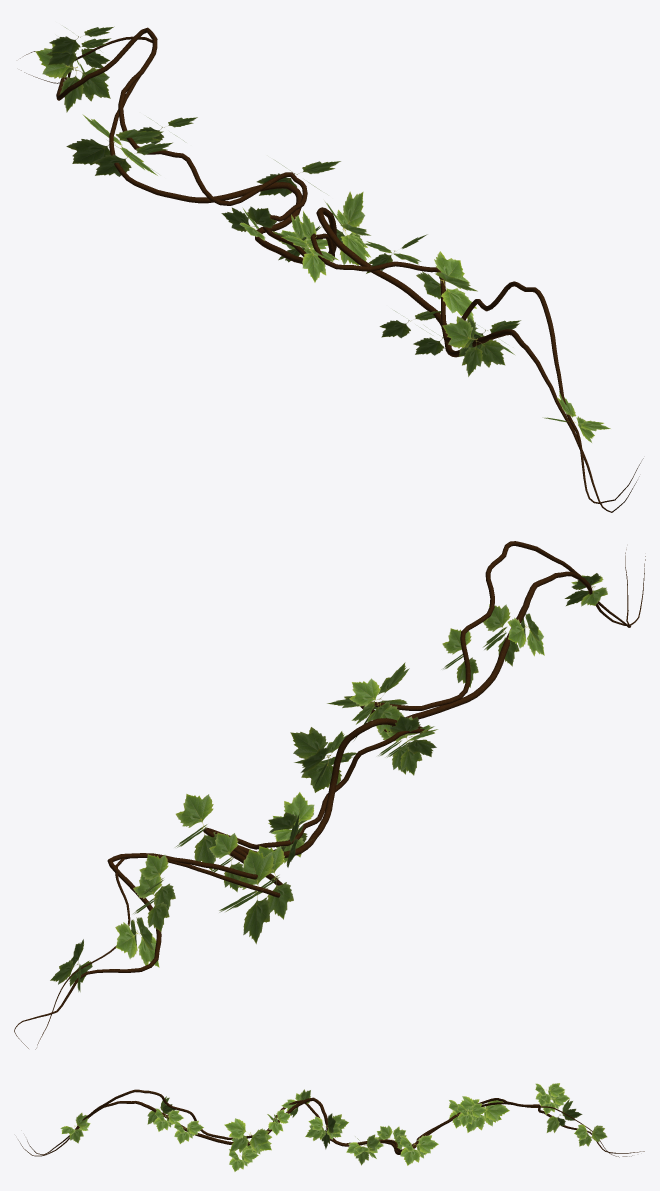
File: AR-Vines.glb
3 renders of one model, top to bottom at view 1: azimuth 30°, elevation 25°; view 2: azimuth 150°, elevation 25°; view 3: azimuth 270°, elevation 25°, orthographic. The views are drawn at different scales.
Visible parts, largest first — view 1: Climbing Vine Geometry Node.001; view 2: Climbing Vine Geometry Node.001; view 3: Climbing Vine Geometry Node.001.
Part boxes in pixels (left/top/right/bottom): Climbing Vine Geometry Node.001: left=20, top=26, right=643, bottom=512; Climbing Vine Geometry Node.001: left=14, top=541, right=645, bottom=1049; Climbing Vine Geometry Node.001: left=18, top=1083, right=644, bottom=1171.
Bounding box in the file's own units: 1.29 × 0.9383 × 6.58.
Materials: 45 (45 with a texture image).
